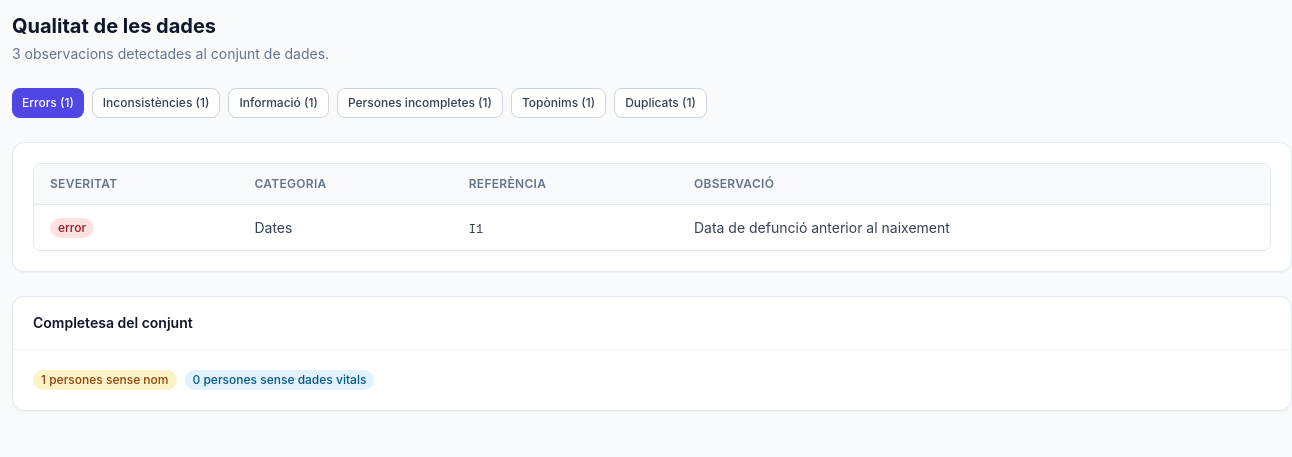
QualityPage › mostra els duplicats
The width and height of the screenshot is (1292, 457).
expect the heading "Qualitat de les dades" is shown: met, box left=12, top=14, right=216, bottom=38
Click the button "Duplicats (1)": click(661, 103) left=614, top=88, right=707, bottom=118
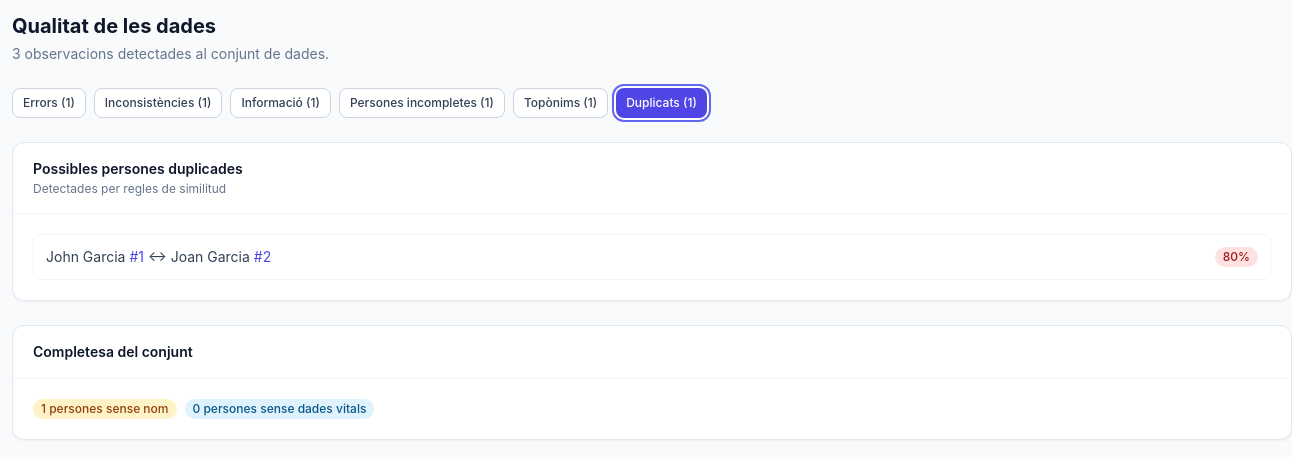
expect the text "John Garcia #1 ↔ Joan Garcia #2" is shown: met, box left=46, top=247, right=271, bottom=267
